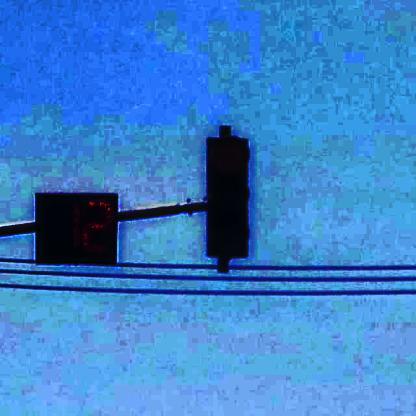Traffic Light -Red-: (206, 136, 250, 260)
